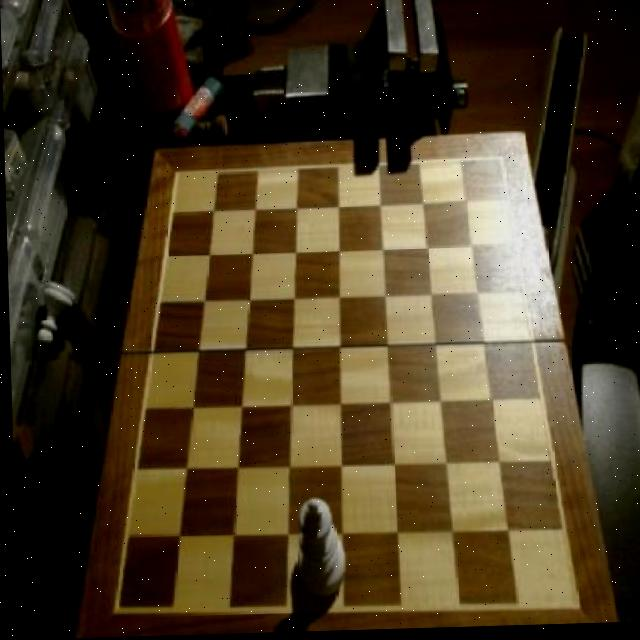white-bishop: (295, 496, 346, 611)
